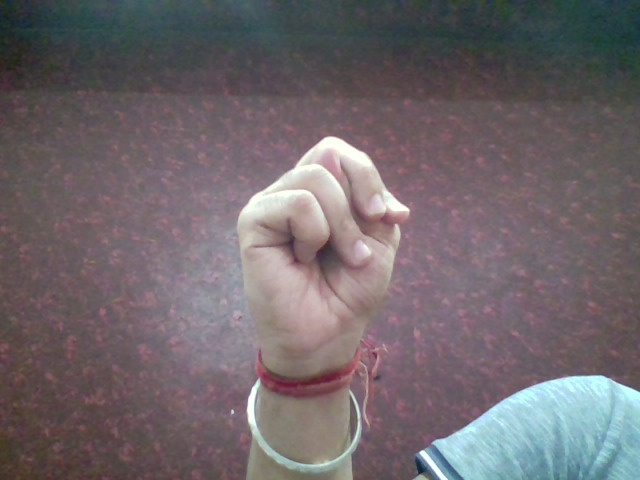n: (224, 124, 422, 367)
